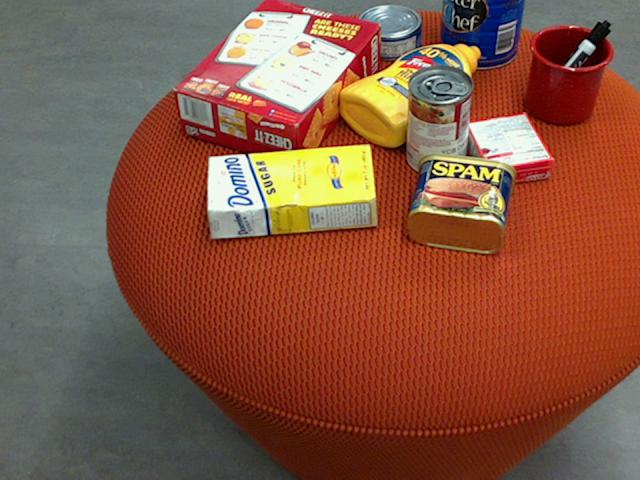cracker_box: (171, 0, 380, 167)
gelatin_box: (465, 114, 554, 186)
large_marker: (531, 17, 610, 109)
master_chef_can: (438, 0, 524, 67)
mug: (525, 24, 613, 123)
mustard_bottle: (338, 43, 480, 146)
potted_meat_can: (406, 151, 514, 253)
sugar_box: (203, 143, 377, 239)
tomato_soup_can: (405, 63, 471, 175)
tuna_fish_can: (355, 3, 421, 57)
